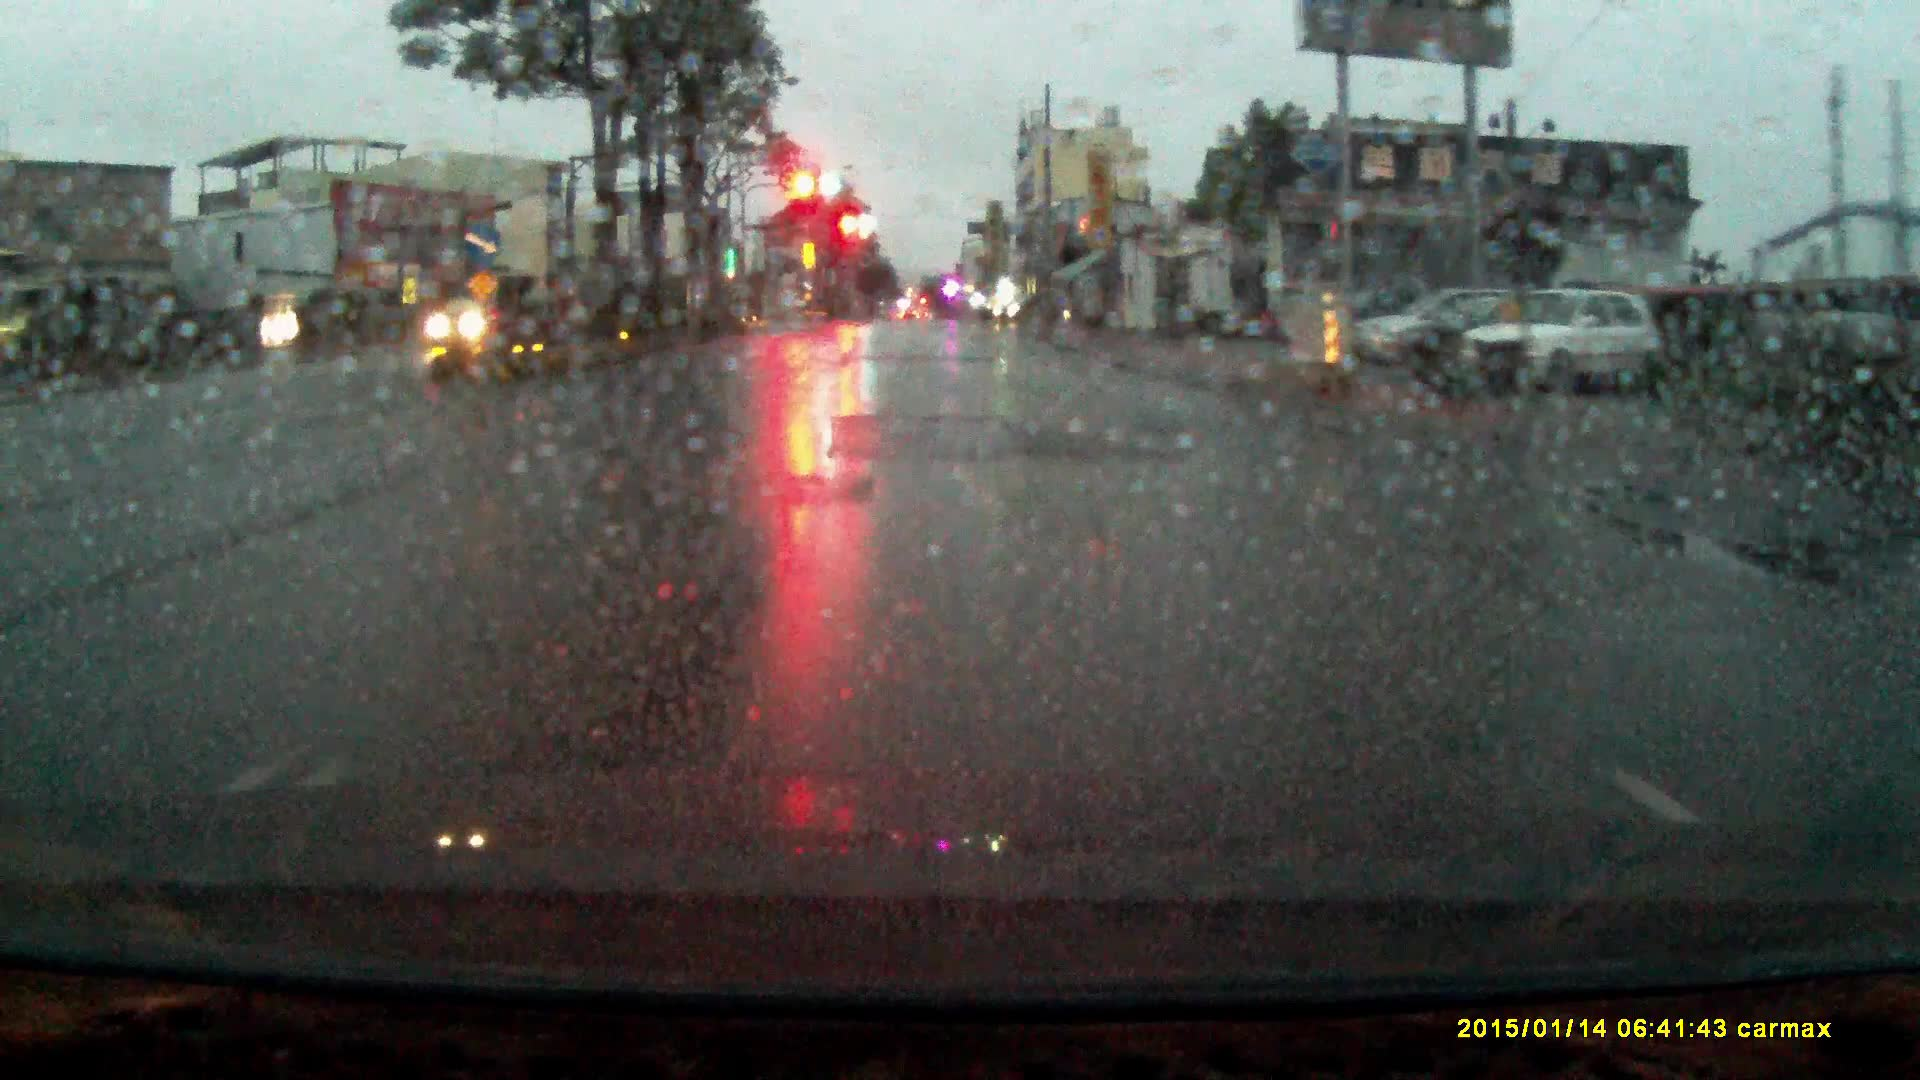vehicle: (1455, 287, 1667, 393), (1385, 291, 1532, 375), (1357, 287, 1473, 367), (423, 295, 517, 345), (998, 290, 1065, 328)
